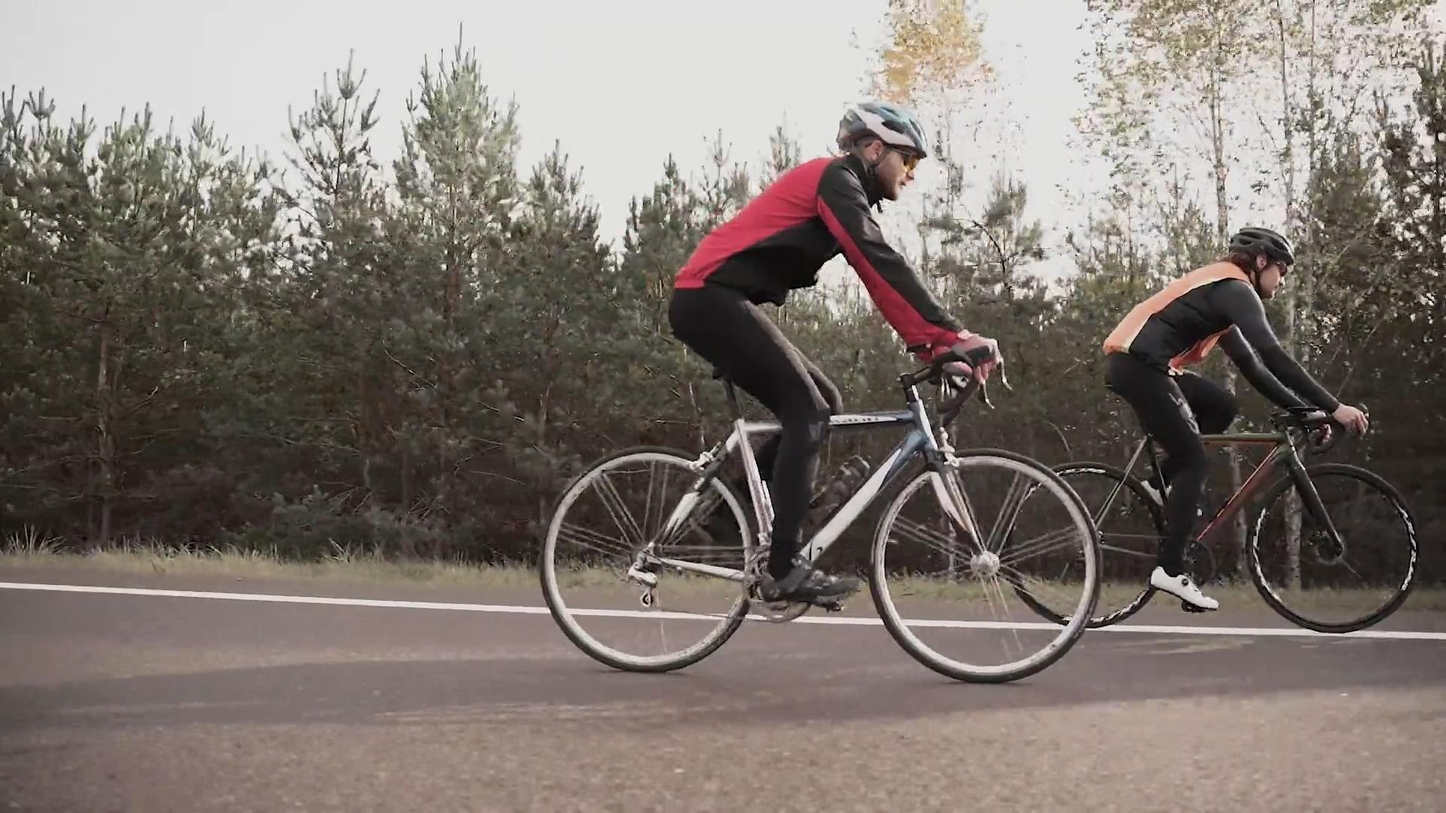bicyclist: (536, 101, 1102, 684), (1005, 225, 1422, 635)
helmet: (837, 101, 927, 213), (1229, 226, 1295, 300)
